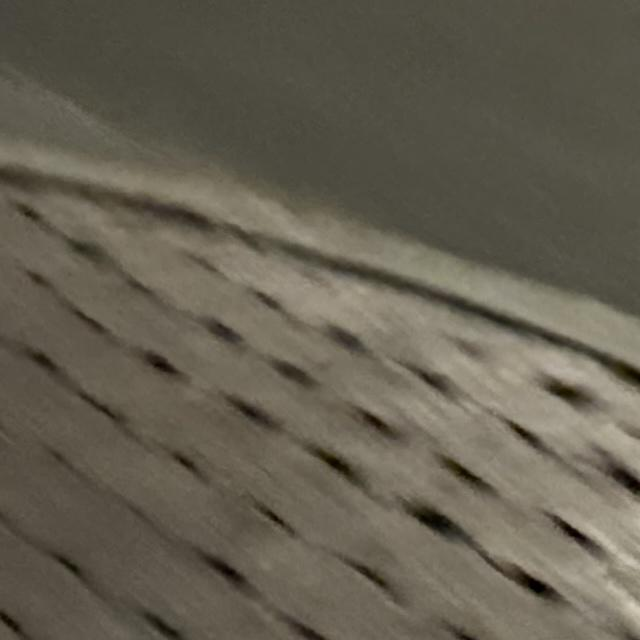curb: (0, 133, 639, 371)
